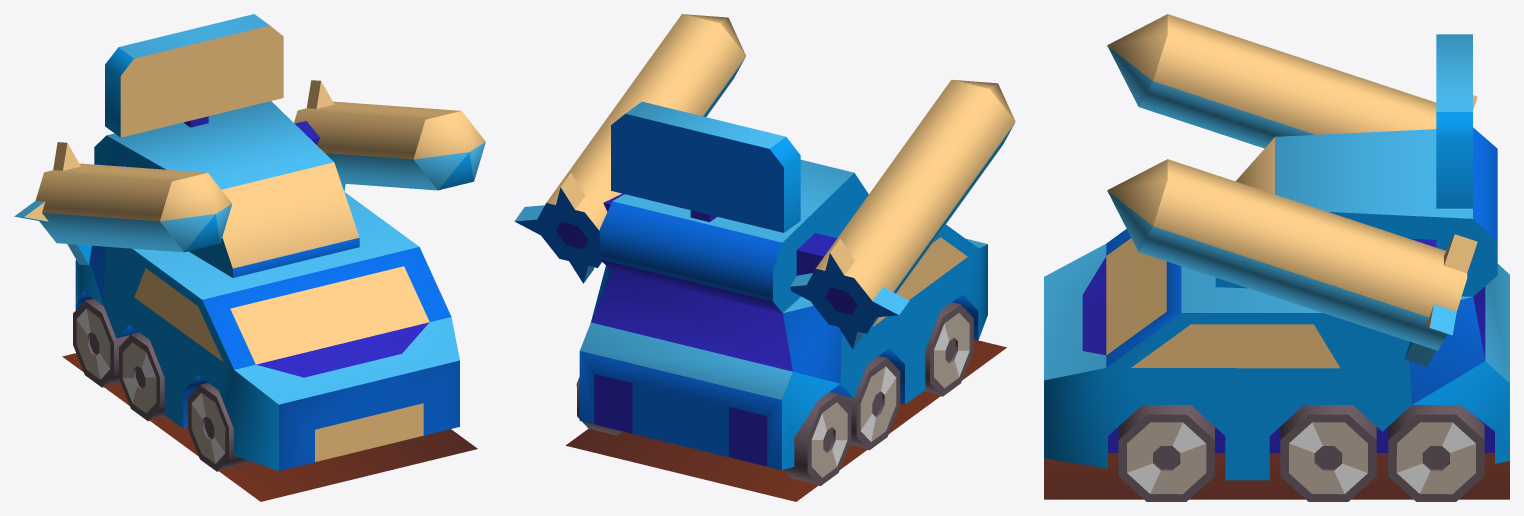
Rendered from MissileMesh.BlueMoon.glb.
The picture shows the model from 3 angles, left to right: view 1: azimuth 30°, elevation 25°; view 2: azimuth 150°, elevation 25°; view 3: azimuth 270°, elevation 25°; orthographic projection. The views are drawn at different scales.
Visible parts, largest first — view 1: MissileMesh.BlueMoon; view 2: MissileMesh.BlueMoon; view 3: MissileMesh.BlueMoon.
Boxes of the visible parts, left/top/right/bottom form: MissileMesh.BlueMoon: left=14, top=14, right=485, bottom=501; MissileMesh.BlueMoon: left=514, top=14, right=1015, bottom=501; MissileMesh.BlueMoon: left=1044, top=14, right=1509, bottom=501.
Bounding box in the file's own units: 2 × 1.65 × 1.9.
1 material, 1 textured.
